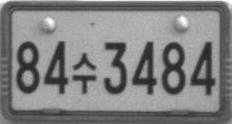3: (103, 41, 128, 95)
4: (190, 40, 216, 95), (43, 40, 69, 94), (131, 41, 157, 95)
8: (160, 40, 187, 95), (15, 40, 40, 94)
수: (72, 51, 96, 94)
